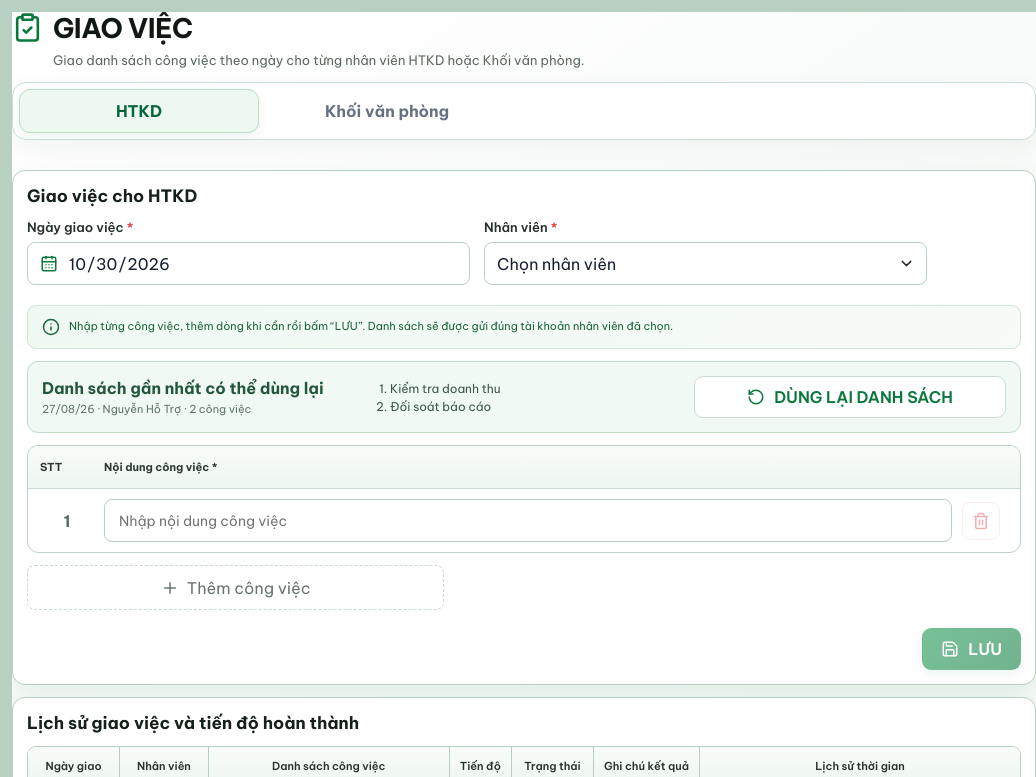
support work screens › loads the latest persisted assignment as a clean reusable list for a later day
This screenshot has width=1036, height=777.
Expected: the element named "Danh sách công việc dùng lại" shows "27/08/26", [42,402,95,416]
Expected: the element named "Danh sách công việc dùng lại" shows "2 công việc", [27,361,1021,433]
Click the button "DÙNG LẠI DANH SÁCH". click: (850, 397)
box: [694,376,1006,418]
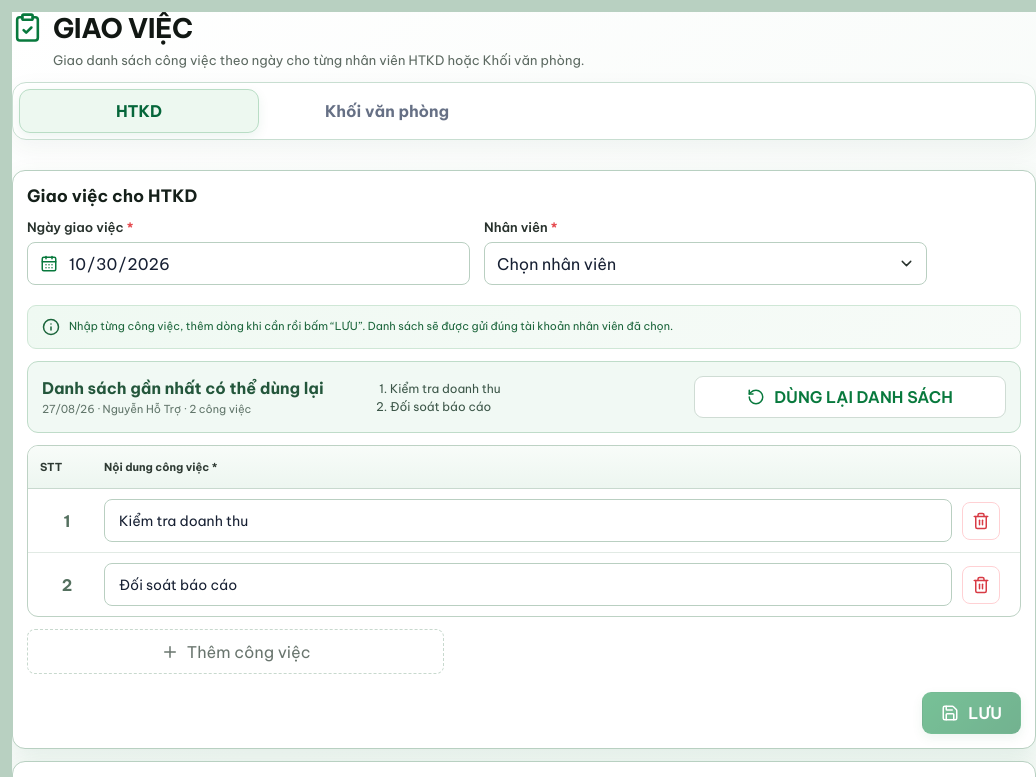
Expected: the field named "Công việc 1" holds "Kiểm tra doanh thu", [117,500,939,541]
Expected: the field named "Công việc 2" holds "Đối soát báo cáo", [117,564,939,605]
